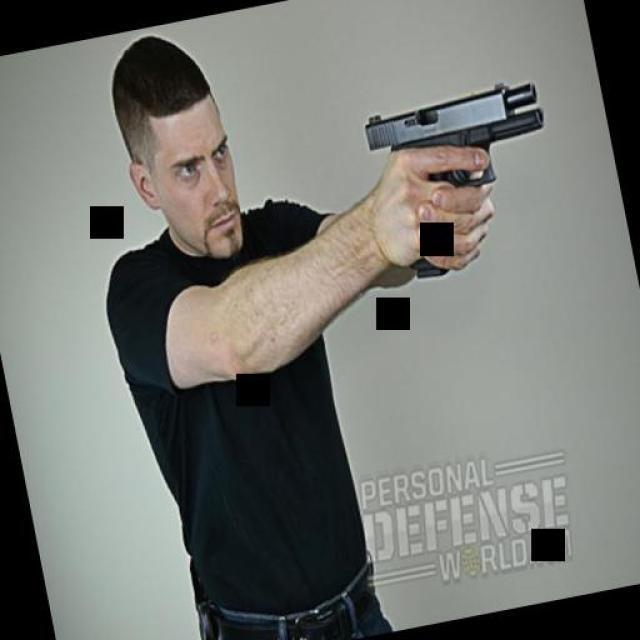gun: (360, 75, 575, 287)
